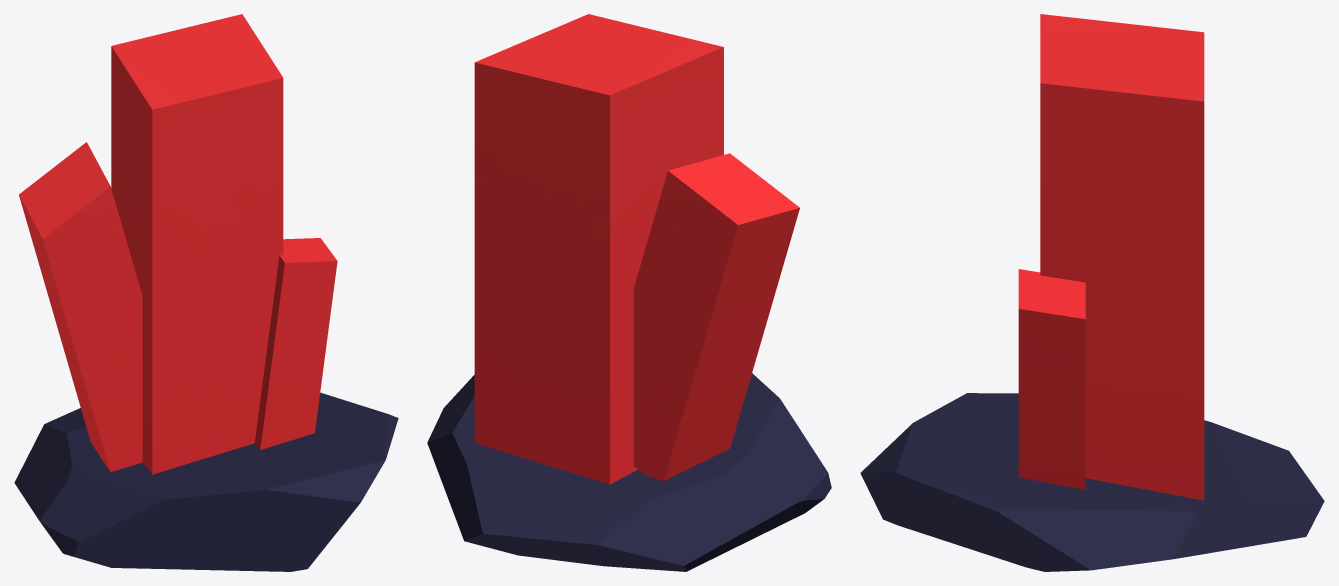
3 renders of one model, left to right at view 1: azimuth 30°, elevation 25°; view 2: azimuth 150°, elevation 25°; view 3: azimuth 270°, elevation 25°, orthographic. The views are drawn at different scales.
Parts seen in each view (by area): view 1: Nó 11; view 2: Nó 11; view 3: Nó 11.
Boxes of the visible parts, x1,y1,x2,y2 form: Nó 11: (14, 14, 398, 571); Nó 11: (427, 14, 831, 571); Nó 11: (860, 14, 1324, 571).
Bounding box in the file's own units: 107 × 132 × 116.
Materials: 2 (1 with a texture image).
